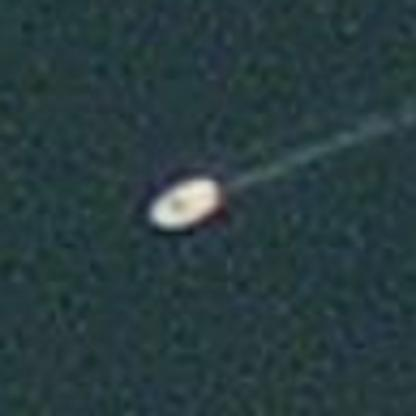ship: (132, 162, 234, 249)
